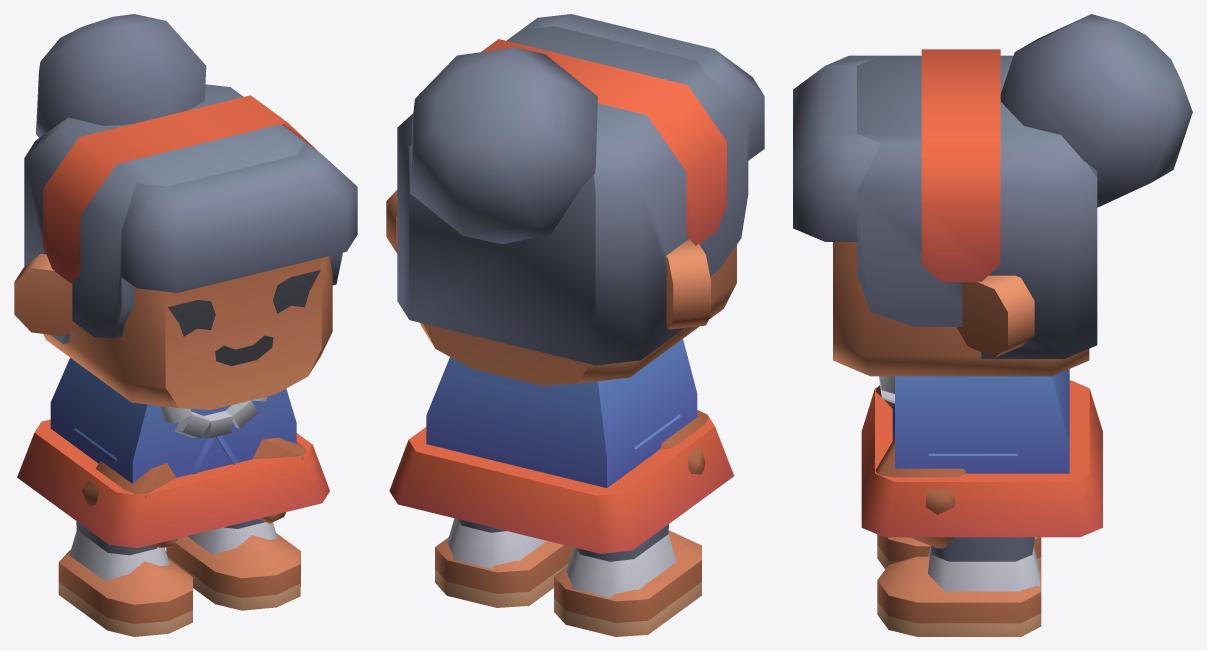
File: people-female-c-cheer.glb
3 views of the same model, side by side, from view 1: azimuth 30°, elevation 25°; view 2: azimuth 150°, elevation 25°; view 3: azimuth 270°, elevation 25° (orthographic). The views are drawn at different scales.
Parts seen in each view (by area): view 1: character-female-c-cheer; view 2: character-female-c-cheer; view 3: character-female-c-cheer.
Boxes of the visible parts, x1,y1,x2,y2 form: character-female-c-cheer: [14, 14, 357, 636]; character-female-c-cheer: [386, 14, 764, 636]; character-female-c-cheer: [793, 14, 1192, 636].
Size of the model in its own units: 0.4535 by 0.7755 by 0.4995.
1 material, 1 textured.
